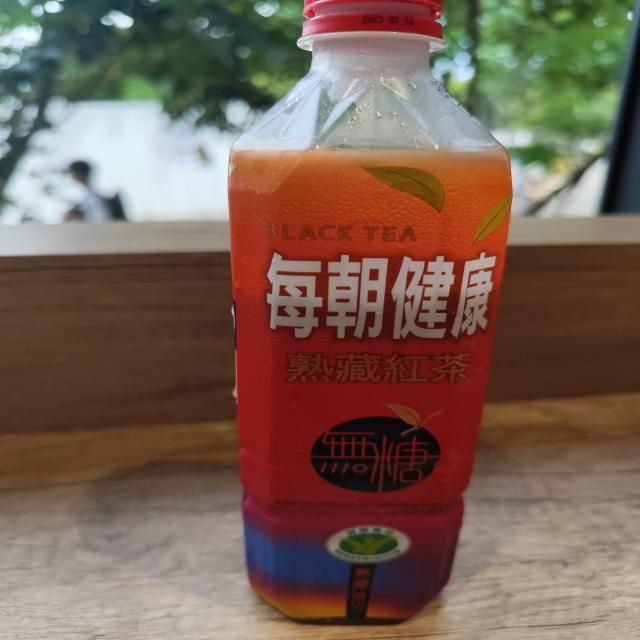MeiChou_BlackTea: (191, 0, 522, 627)
